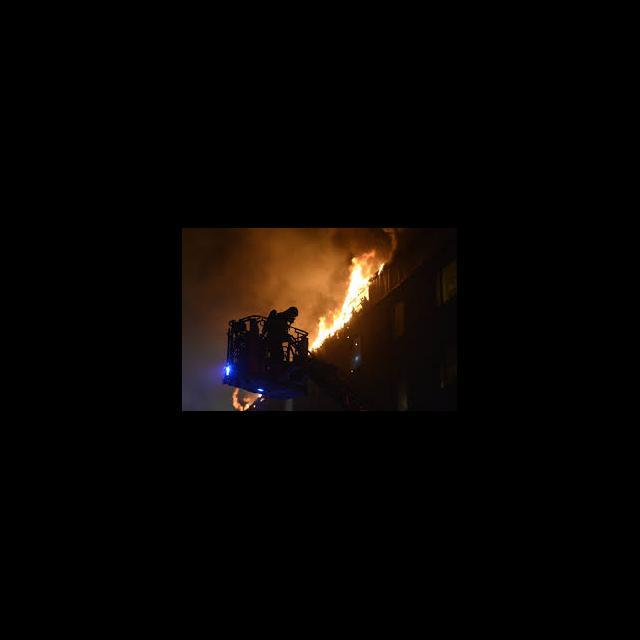Fire: (308, 253, 386, 356)
